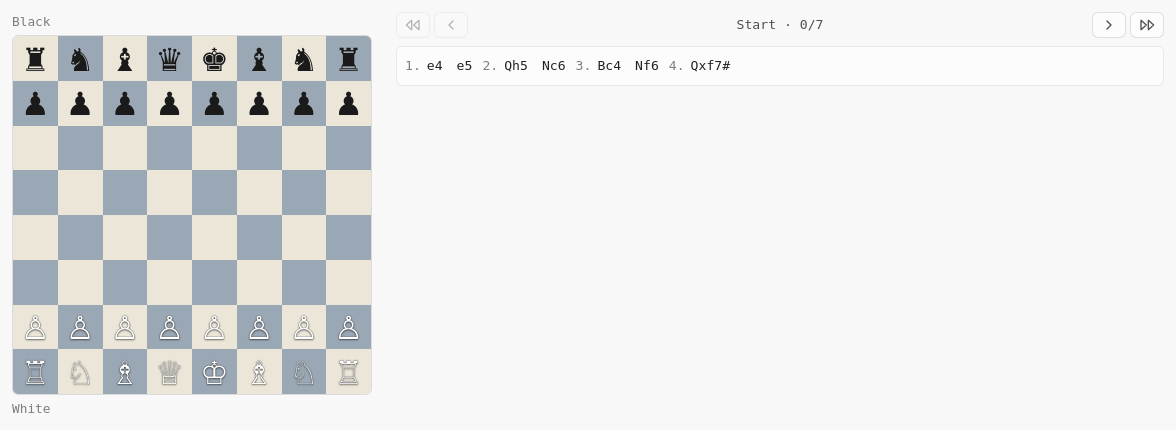
GameViewer › jumps to a position from the move list
Click the button "Qh5": (516, 66) [500,55,532,77]
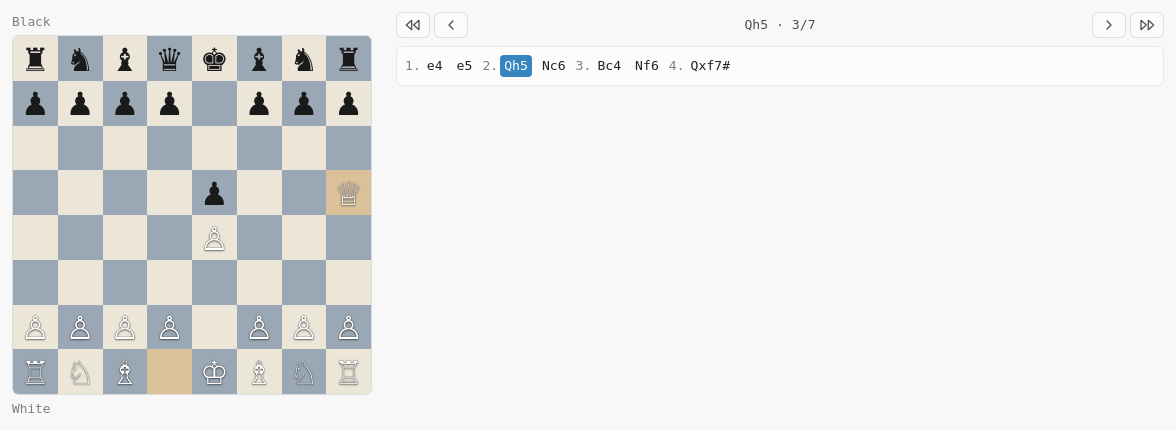
Result: the text "Qh5 · 3/7" is shown at [744,15,816,35]
